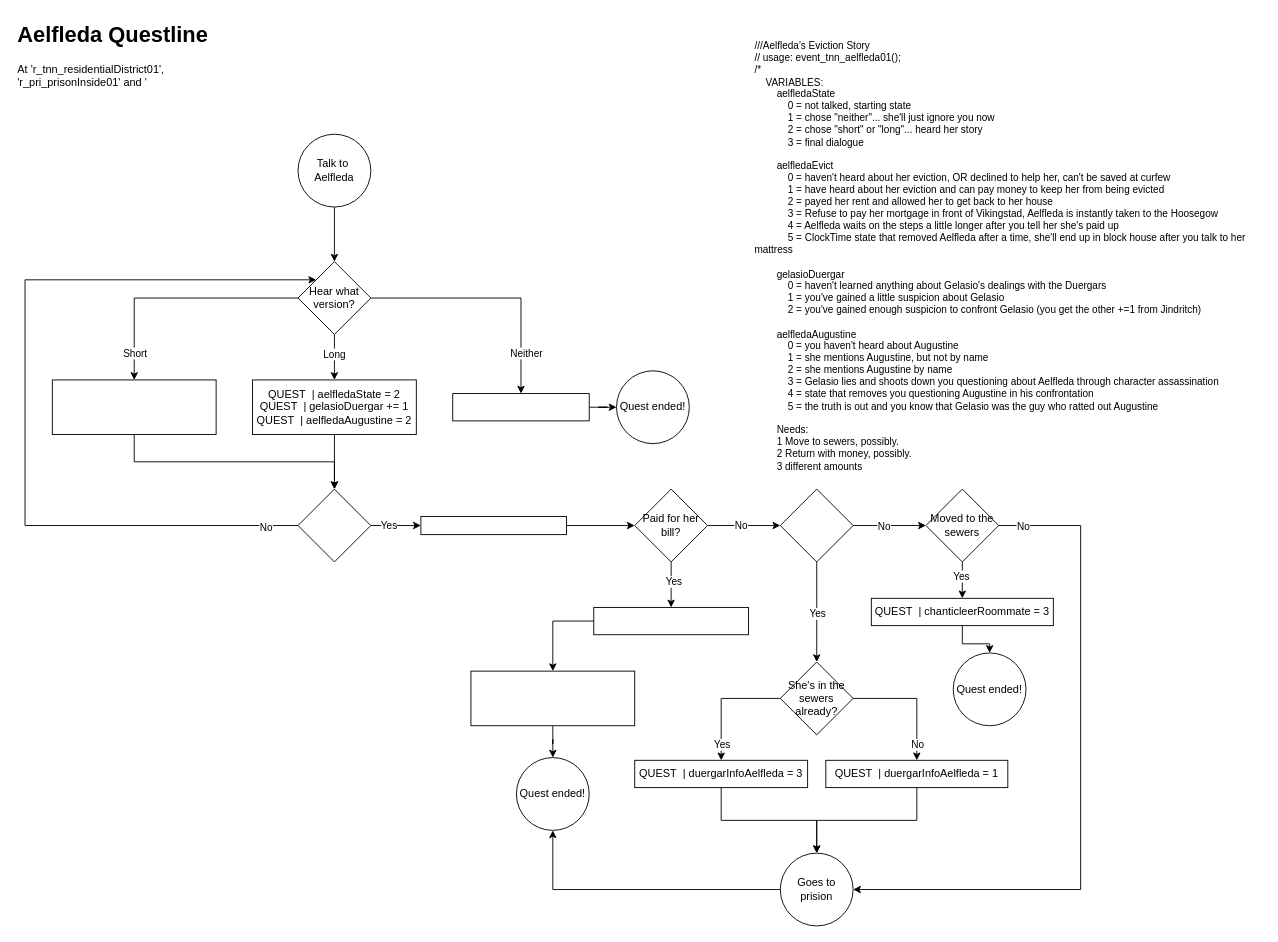
This 1278x942 diagram has some shape labels left out. The centre of each missing label's shape, as x and y in pixels:
Gave her bill to Gelasio: the point at 816,525
Help out Aelfleda?: the point at 334,525
QUESt | aelfledaAugustine += 1 QUEST | aelfledaState = 2: the point at 133,407
QUEST | aelfledaEvict = 1: the point at 493,525
QUEST | aelfledaEvict = 2: the point at 670,621
QUEST | aelfledaState = 1: the point at 520,407
QUEST | behaveJaded -= 1 QUEST | aelfledaEvict = 4 QUEST | aelfledaMattress = 1: the point at 552,698
